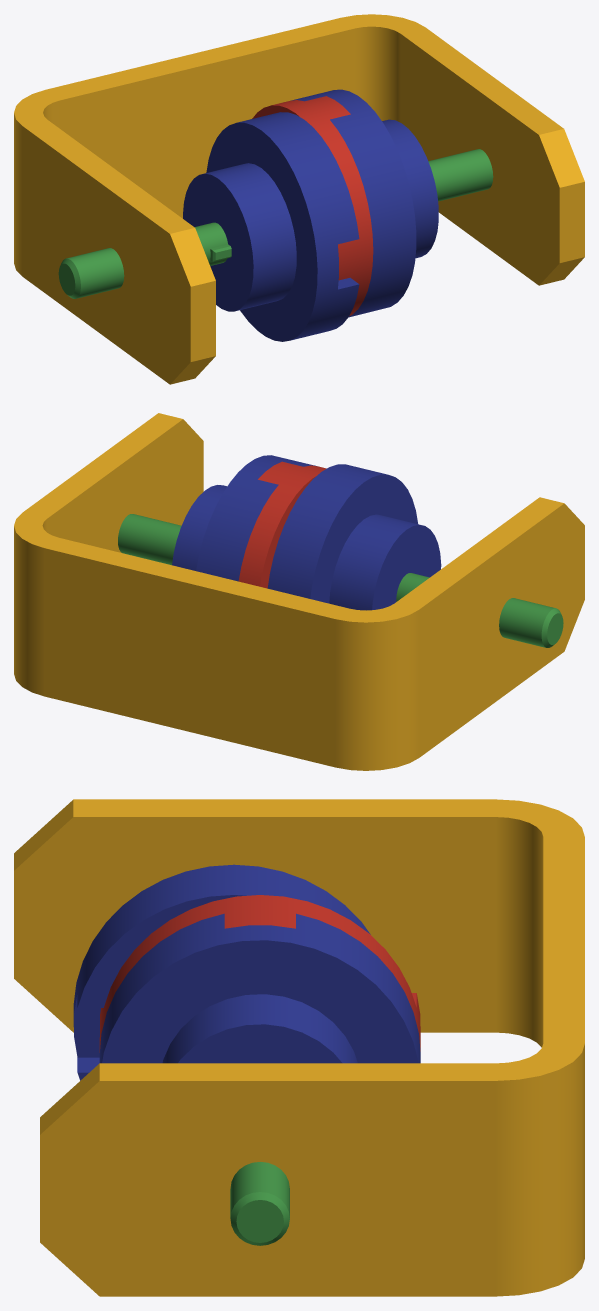
3 renders of one model, top to bottom at view 1: azimuth 30°, elevation 25°; view 2: azimuth 150°, elevation 25°; view 3: azimuth 270°, elevation 25°, orthographic. The views are drawn at different scales.
Visible parts, largest first — view 1: Body1:5, Body1:4, Body1:2, Body1:1, Body1, Body1:3; view 2: Body1:5, Body1:4, Body1:2, Body1:1, Body1, Body1:3; view 3: Body1:5, Body1:2, Body1:4, Body1:1, Body1:3.
Part boxes in pixels (x1=…): Body1:5: x1=14, y1=14, x2=584, y2=384; Body1:4: x1=183, y1=112, x2=359, y2=341; Body1:2: x1=291, y1=89, x2=438, y2=317; Body1:1: x1=252, y1=96, x2=373, y2=315; Body1: x1=58, y1=222, x2=231, y2=298; Body1:3: x1=428, y1=149, x2=493, y2=201; Body1:5: x1=14, y1=413, x2=584, y2=770; Body1:4: x1=267, y1=464, x2=441, y2=610; Body1:2: x1=172, y1=455, x2=316, y2=581; Body1:1: x1=238, y1=461, x2=326, y2=588; Body1: x1=396, y1=573, x2=563, y2=647; Body1:3: x1=118, y1=514, x2=181, y2=565; Body1:5: x1=14, y1=799, x2=584, y2=1296; Body1:2: x1=99, y1=913, x2=420, y2=1063; Body1:4: x1=73, y1=864, x2=370, y2=1080; Body1:1: x1=99, y1=895, x2=420, y2=1052; Body1:3: x1=230, y1=1162, x2=289, y2=1245.
Bounding box in the file's own units: 13.8 × 5.4 × 9.6.
